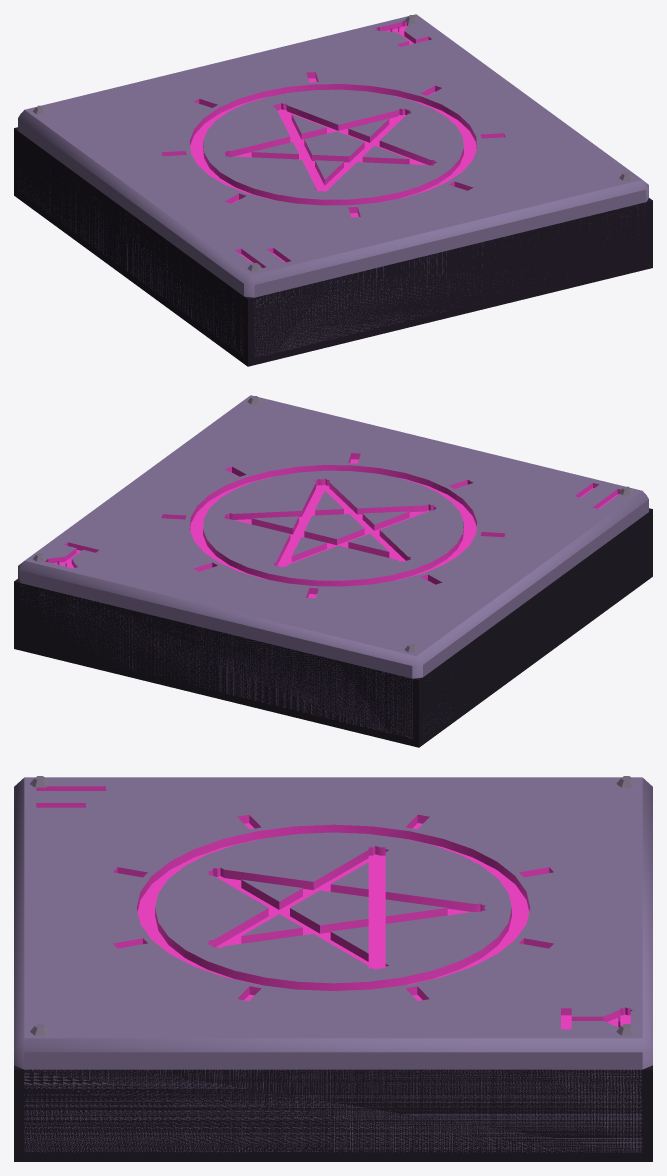
Rendered from floor_rune__lower.glb.
3 renders of one model, top to bottom at view 1: azimuth 30°, elevation 25°; view 2: azimuth 150°, elevation 25°; view 3: azimuth 270°, elevation 25°, orthographic. The views are drawn at different scales.
Visible parts, largest first — view 1: floor_rune; view 2: floor_rune; view 3: floor_rune.
Part boxes in pixels (x1=…): floor_rune: x1=14, y1=14, x2=652, y2=366; floor_rune: x1=14, y1=395, x2=652, y2=747; floor_rune: x1=14, y1=776, x2=652, y2=1161.
Bounding box in the file's own units: 0.974 × 0.2096 × 0.974.
